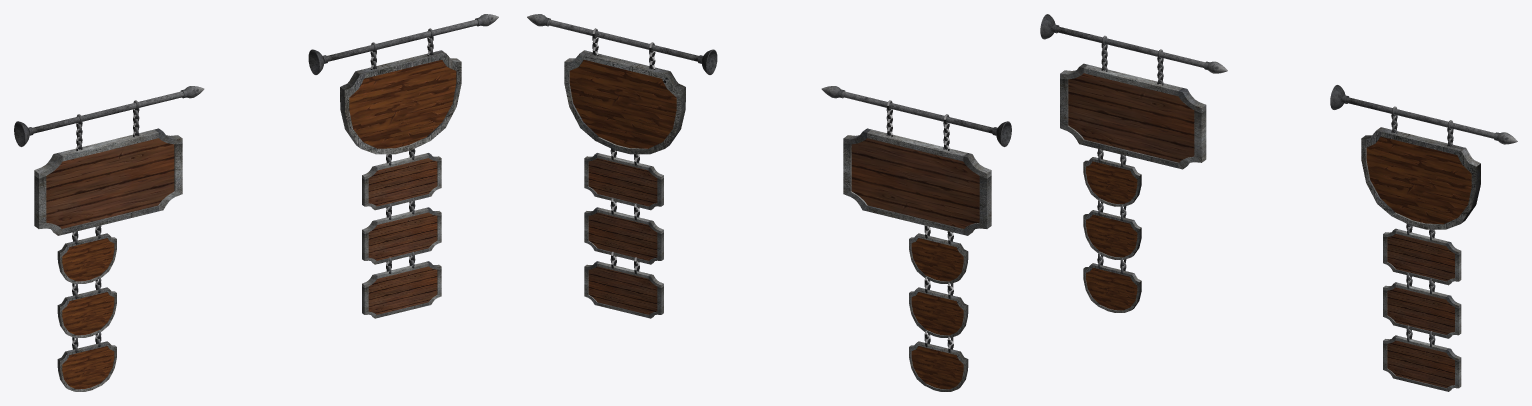
Rendered from Letreros_Menú.fbx.
3 renders of one model, left to right at view 1: azimuth 30°, elevation 25°; view 2: azimuth 150°, elevation 25°; view 3: azimuth 330°, elevation 25°, orthographic.
Parts seen in each view (by area): view 1: Letrero, Madera, Marco, Madera4, Madera2, Madera3, Letrero_chico2, Letrero_chico, Letrero_chico1, pCylinder1, pCylinder4, Marco2 (+2 smaller); view 2: Letrero, Madera, Marco, Madera4, Madera2, Madera3, Letrero_chico2, Letrero_chico, Letrero_chico1, pCylinder4, pCylinder1, Marco2 (+2 smaller); view 3: Letrero, Madera, Marco, Madera2, Madera4, Madera3, Letrero_chico, Letrero_chico2, Letrero_chico1, Marco4, Marco2, pCylinder4 (+2 smaller).
Part boxes in pixels (x1,y1,x2,y2): Letrero: [340, 50, 461, 154]; Madera: [46, 138, 174, 228]; Marco: [34, 128, 182, 235]; Madera4: [368, 266, 437, 314]; Madera2: [368, 158, 437, 206]; Madera3: [368, 212, 437, 260]; Letrero_chico2: [57, 341, 116, 391]; Letrero_chico: [57, 233, 116, 283]; Letrero_chico1: [57, 287, 116, 337]; pCylinder1: [28, 89, 187, 135]; pCylinder4: [322, 17, 481, 63]; Marco2: [362, 153, 441, 210]; Letrero: [564, 50, 685, 154]; Madera: [851, 138, 979, 228]; Marco: [843, 128, 991, 235]; Madera4: [588, 266, 657, 314]; Madera2: [588, 158, 657, 206]; Madera3: [588, 212, 657, 260]; Letrero_chico2: [909, 341, 968, 391]; Letrero_chico: [909, 233, 968, 283]; Letrero_chico1: [909, 287, 968, 337]; pCylinder4: [544, 17, 703, 63]; pCylinder1: [838, 89, 997, 135]; Marco2: [584, 153, 663, 210]; Letrero: [1361, 127, 1480, 229]; Madera: [1068, 73, 1194, 162]; Marco: [1060, 63, 1206, 169]; Madera2: [1387, 234, 1454, 281]; Madera4: [1387, 340, 1454, 387]; Madera3: [1387, 287, 1454, 334]; Letrero_chico: [1083, 157, 1141, 206]; Letrero_chico2: [1083, 263, 1141, 312]; Letrero_chico1: [1083, 210, 1141, 259]; Marco4: [1383, 335, 1461, 391]; Marco2: [1383, 228, 1461, 285]; pCylinder4: [1342, 95, 1499, 140].
Bounding box in the file's own units: 180 × 102 × 7.4.
